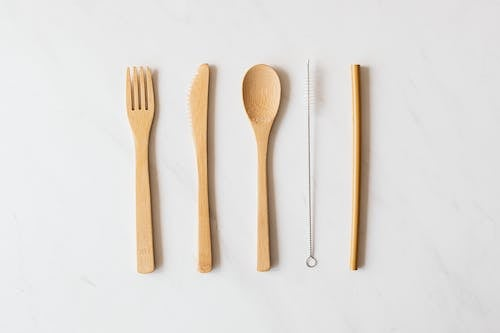knife: (186, 60, 212, 274)
